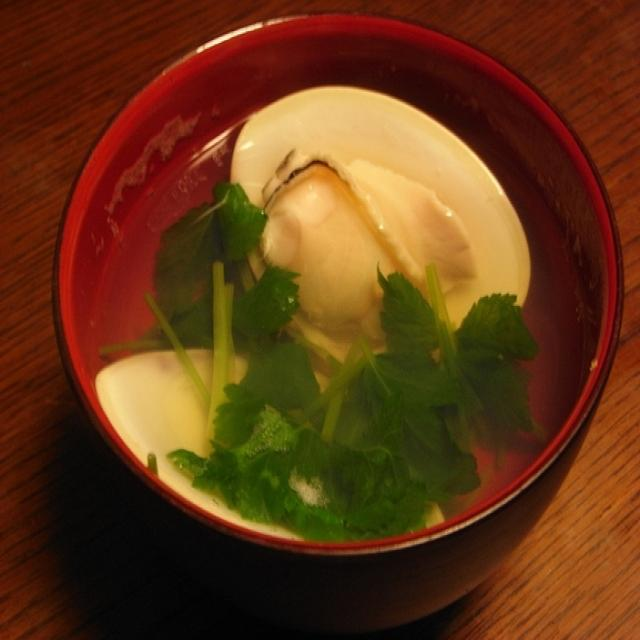汤锅炖物: (68, 27, 619, 597)
